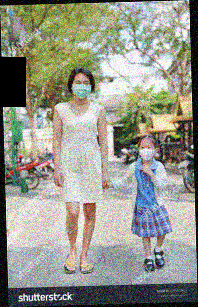with_mask: (72, 80, 92, 99), (138, 144, 156, 161)
